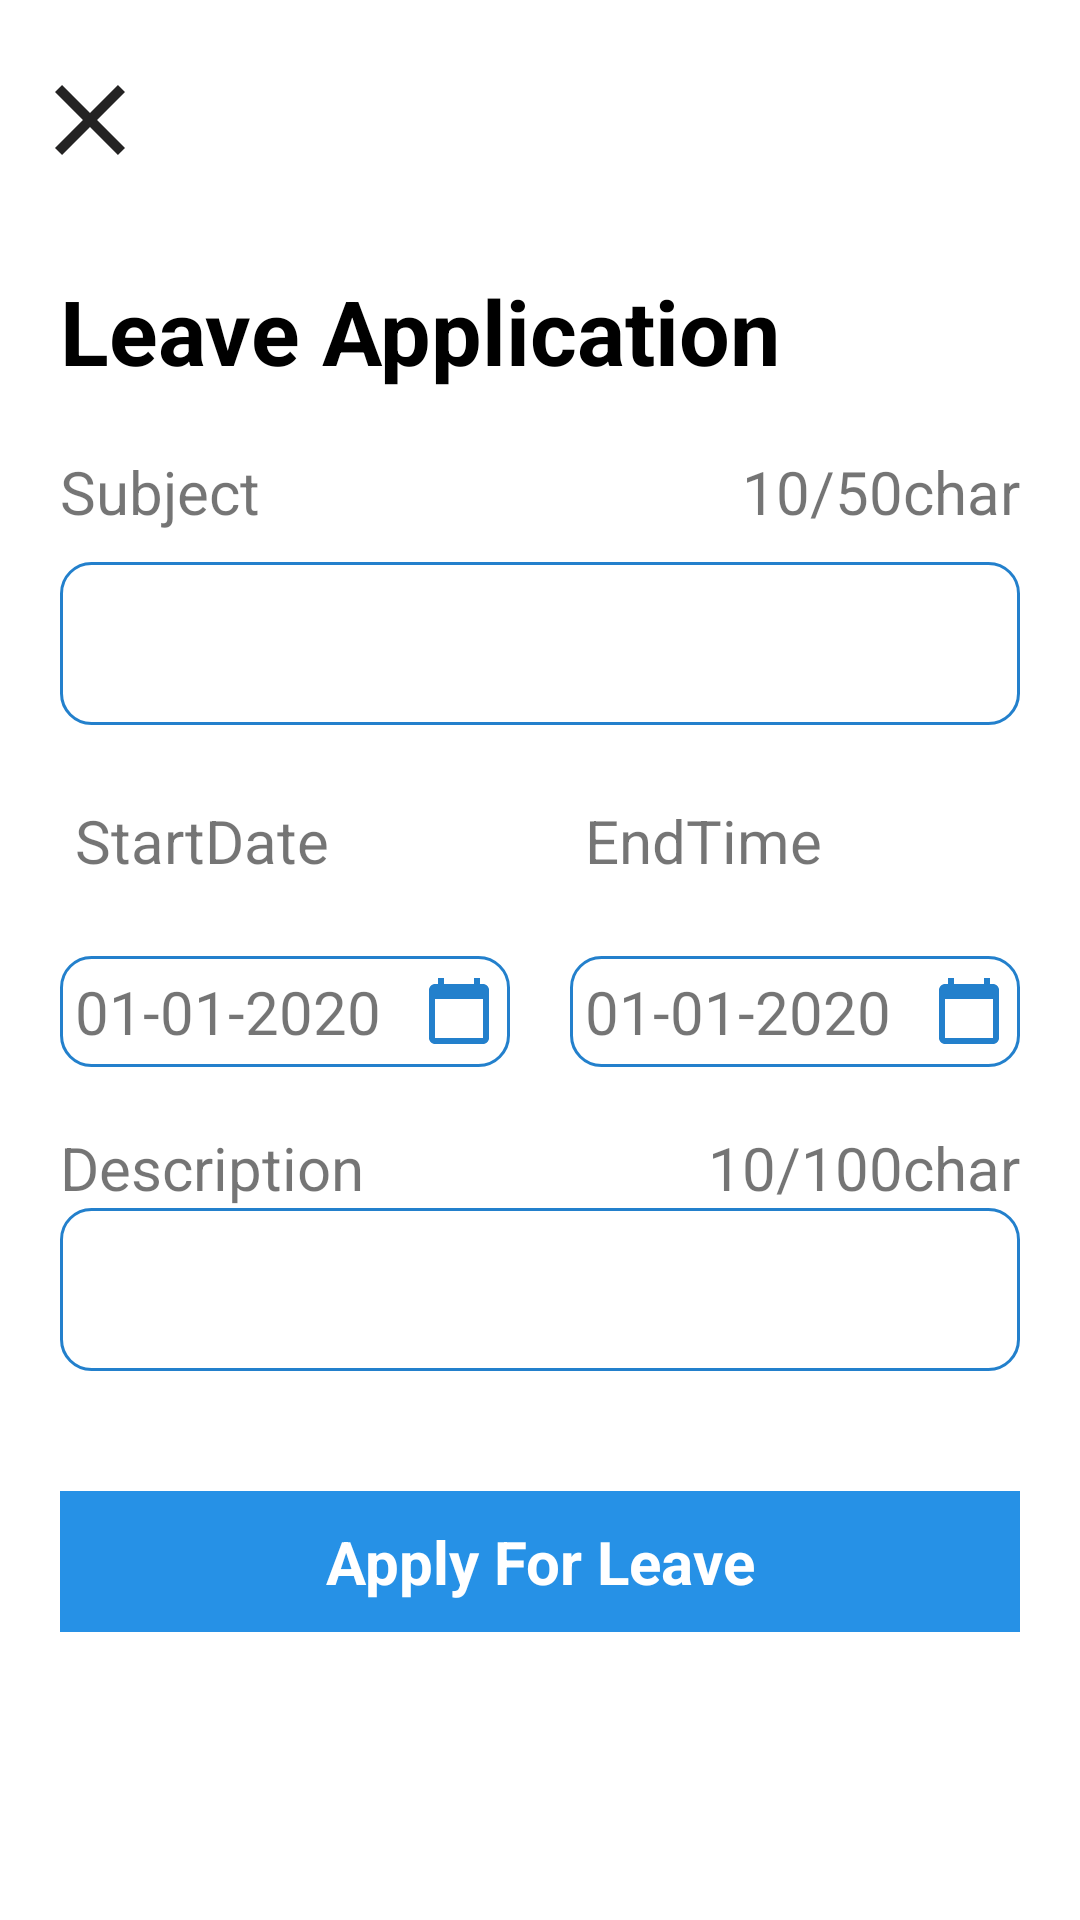

Icon click points for this 1080×1920 phone screenshot, format point (x, y):
close: point (90, 120)
